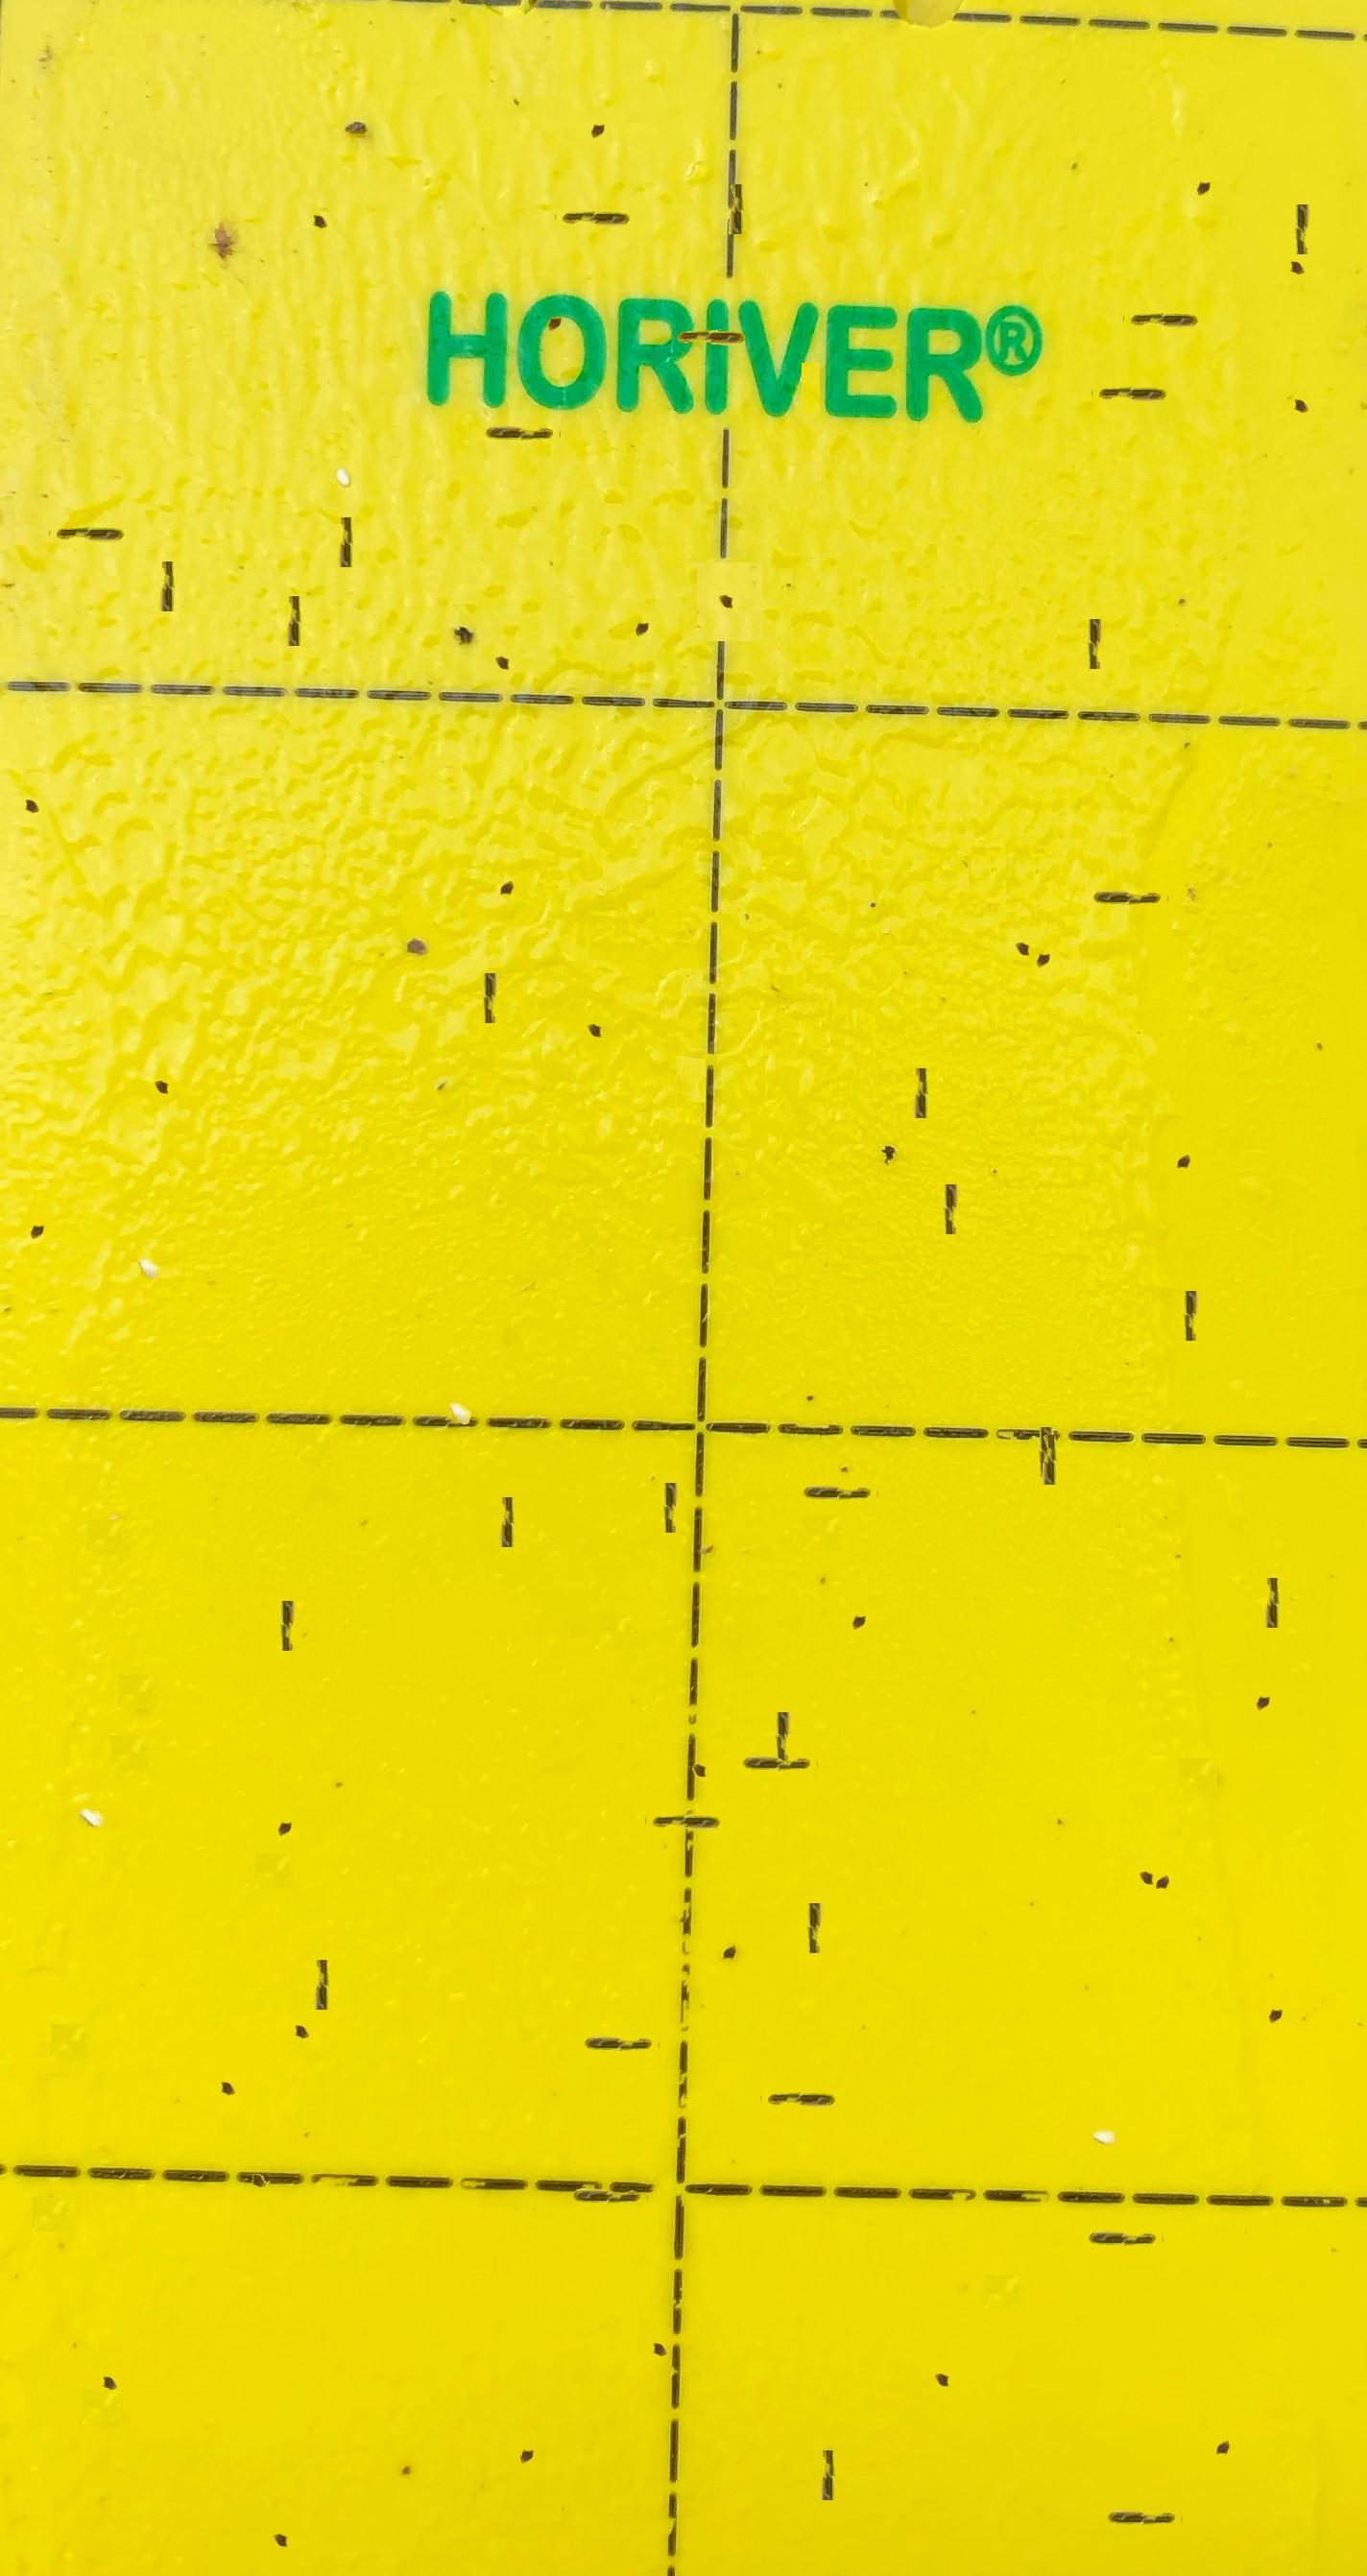white_fly: (322, 404, 365, 451), (73, 1748, 116, 1794), (128, 1205, 170, 1247), (440, 1349, 482, 1392), (1084, 2082, 1127, 2119)
